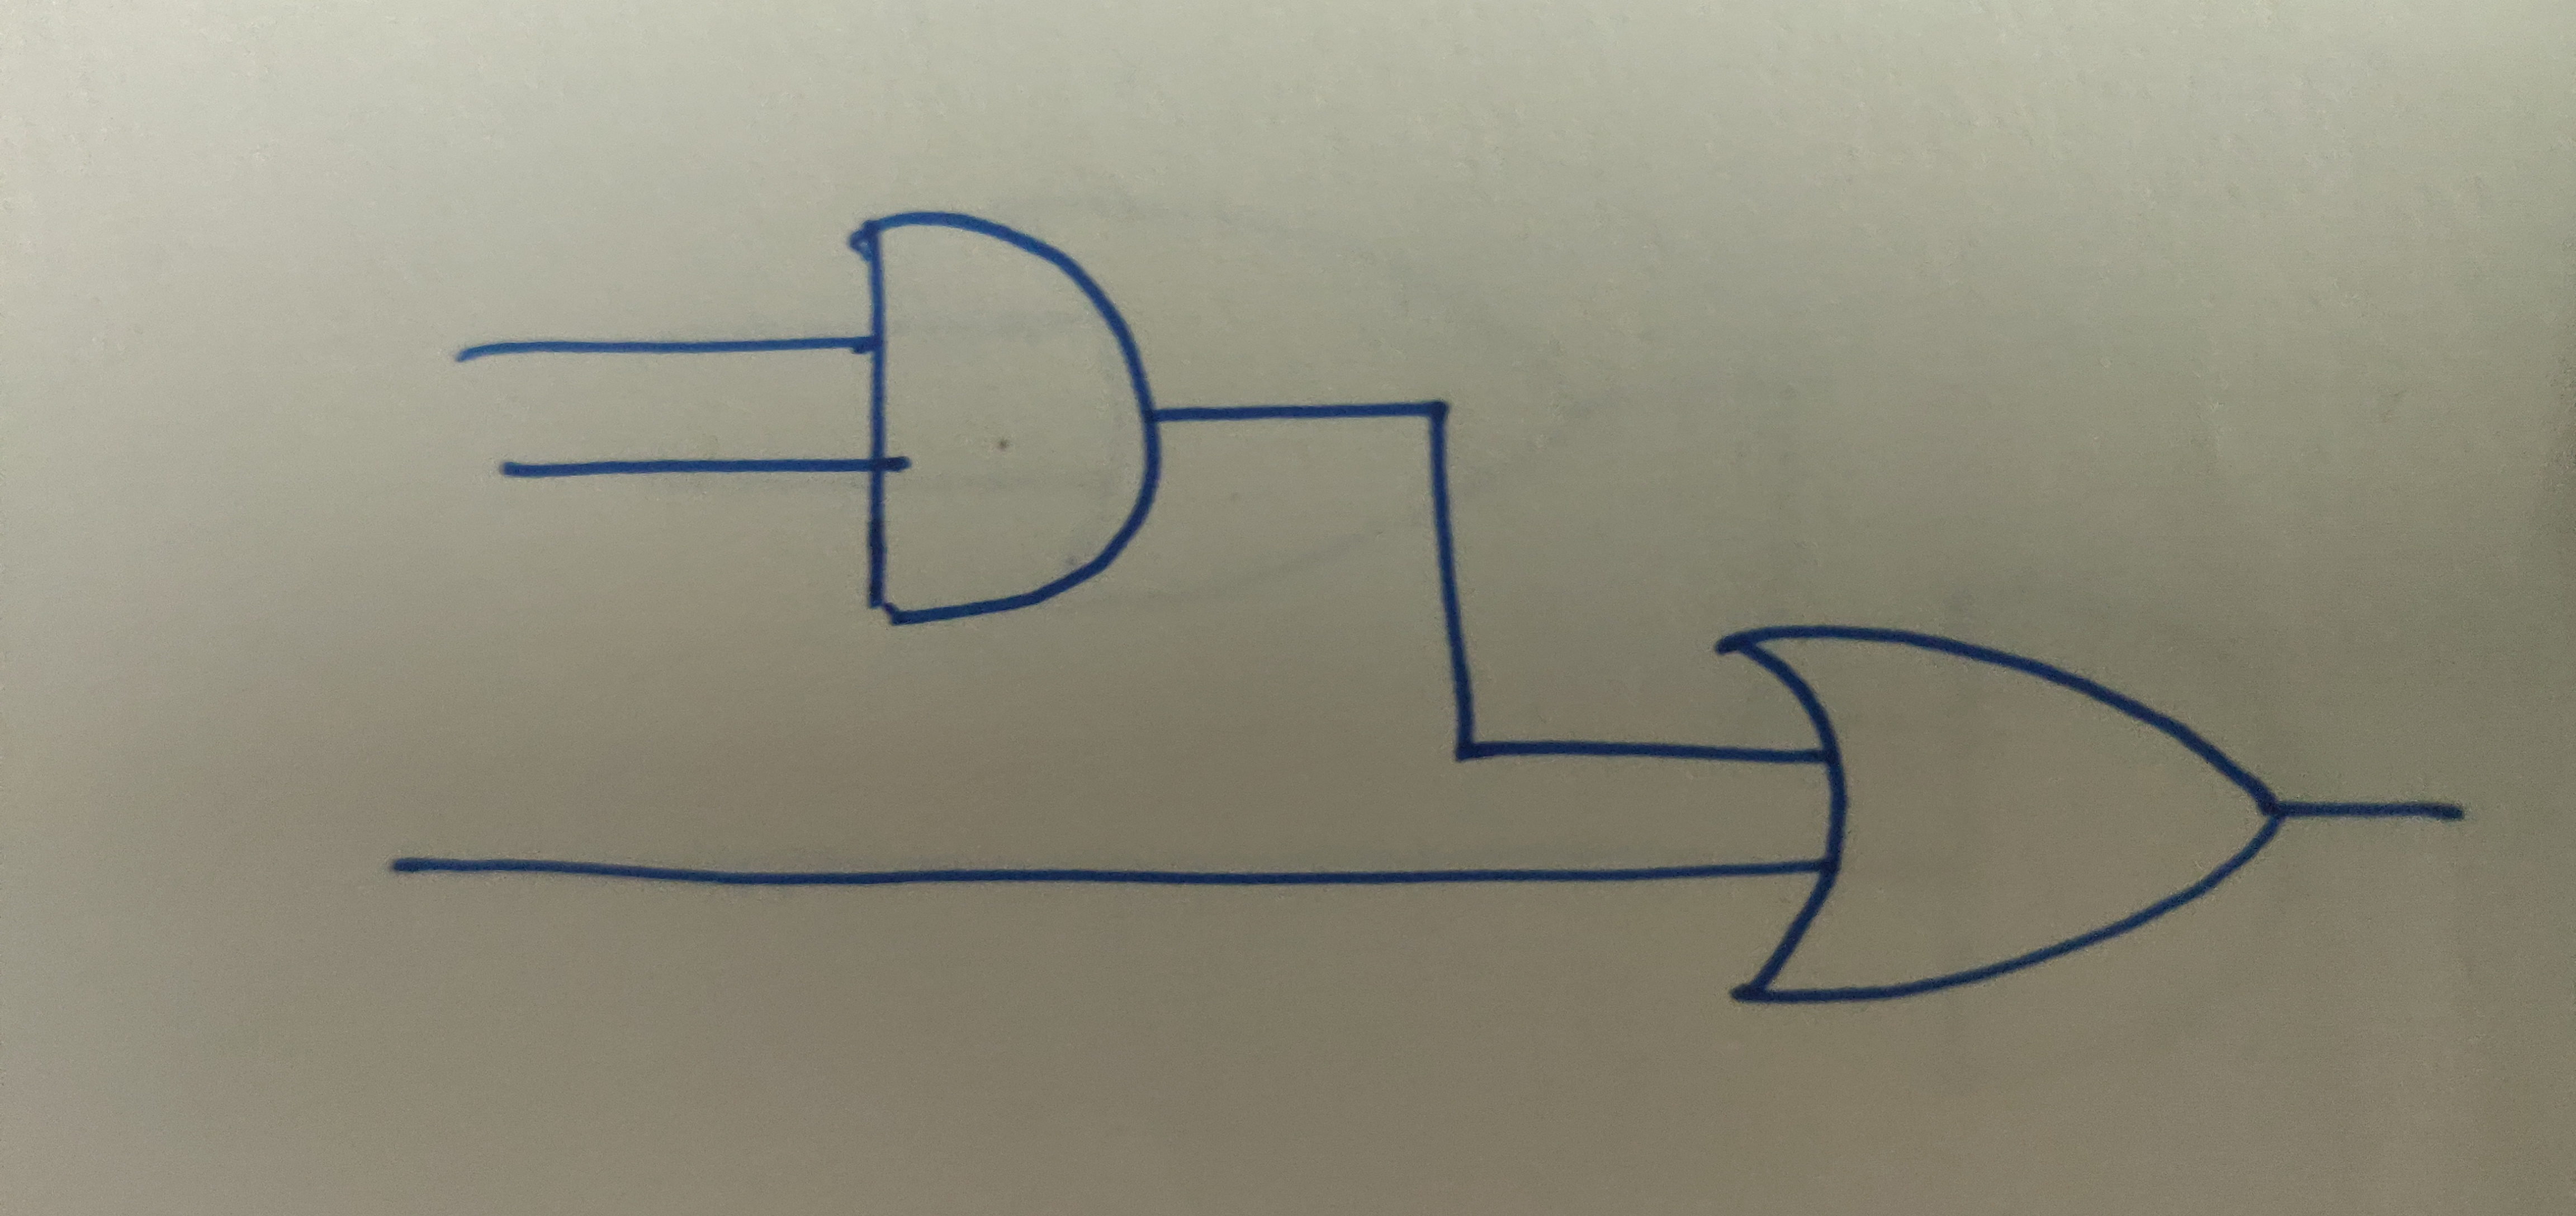and: (851, 204, 1176, 644)
or: (1709, 618, 2290, 1012)
